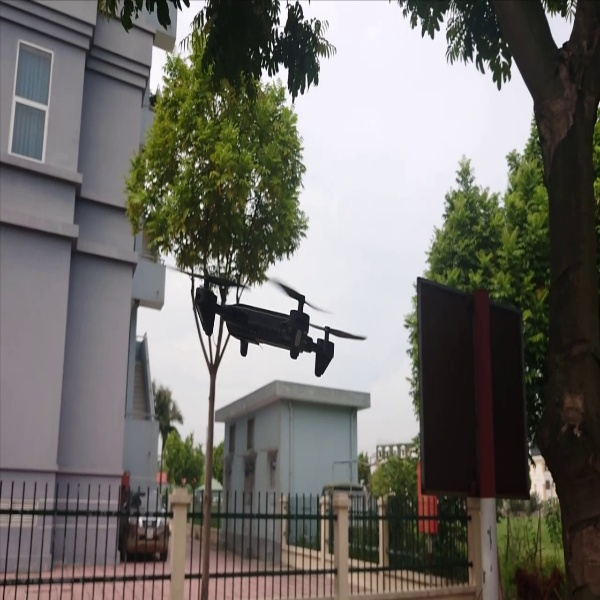drone: (155, 249, 374, 383)
